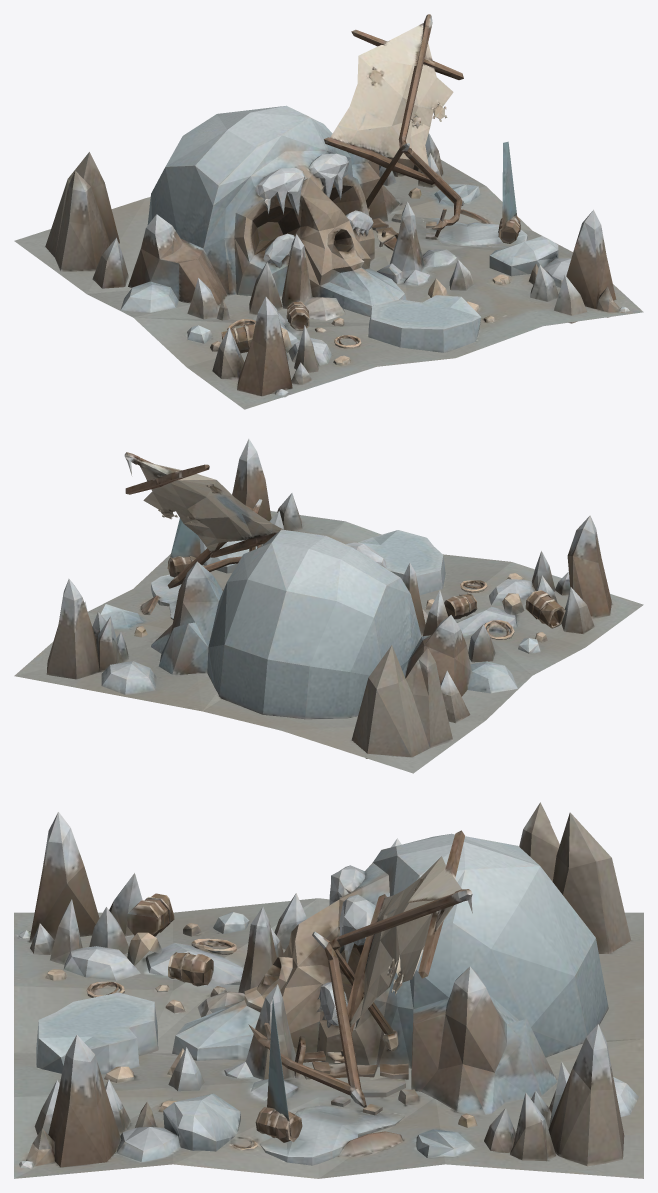
The model's file is skull_rock_ice.glb.
3 renders of one model, top to bottom at view 1: azimuth 30°, elevation 25°; view 2: azimuth 150°, elevation 25°; view 3: azimuth 270°, elevation 25°, orthographic. The views are drawn at different scales.
Visible parts, largest first — view 1: tripo_node_e0715d24-b4c7-4550-8e82-2b08ef7e5dbd; view 2: tripo_node_e0715d24-b4c7-4550-8e82-2b08ef7e5dbd; view 3: tripo_node_e0715d24-b4c7-4550-8e82-2b08ef7e5dbd.
Part boxes in pixels (x1,y1,x2,y2): tripo_node_e0715d24-b4c7-4550-8e82-2b08ef7e5dbd: [14, 14, 643, 409]; tripo_node_e0715d24-b4c7-4550-8e82-2b08ef7e5dbd: [14, 439, 643, 773]; tripo_node_e0715d24-b4c7-4550-8e82-2b08ef7e5dbd: [14, 802, 643, 1178].
Bounding box in the file's own units: 0.998 × 0.4668 × 0.998.
1 material, 1 textured.
